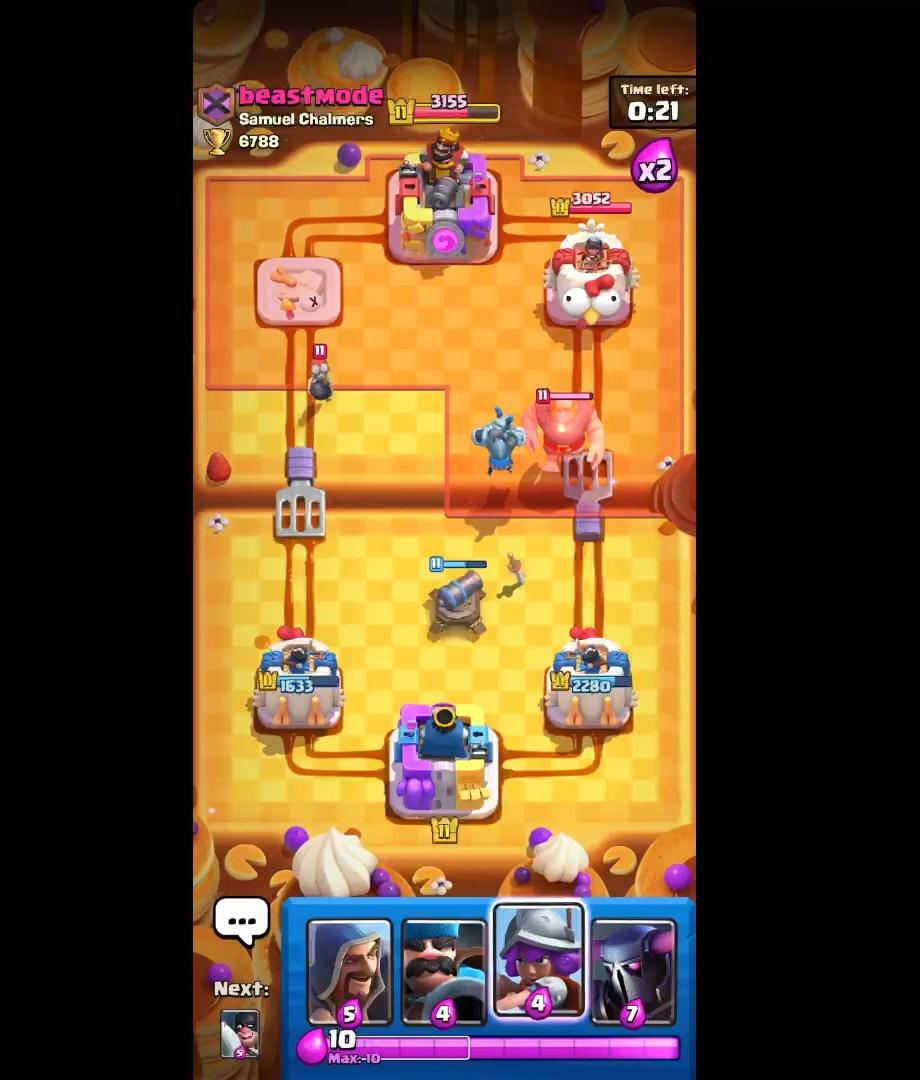Bomber: (309, 344, 338, 406)
Giant: (529, 389, 606, 471)
